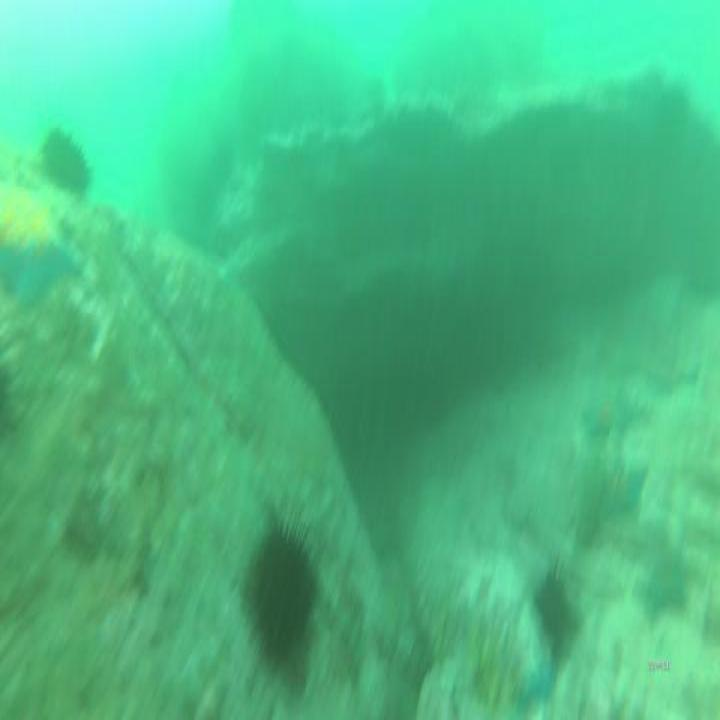echinus: (238, 514, 321, 677), (40, 124, 93, 202), (534, 566, 571, 652)
starfish: (0, 183, 91, 309), (584, 455, 652, 528), (631, 550, 693, 628), (638, 332, 697, 396), (582, 386, 637, 442)
